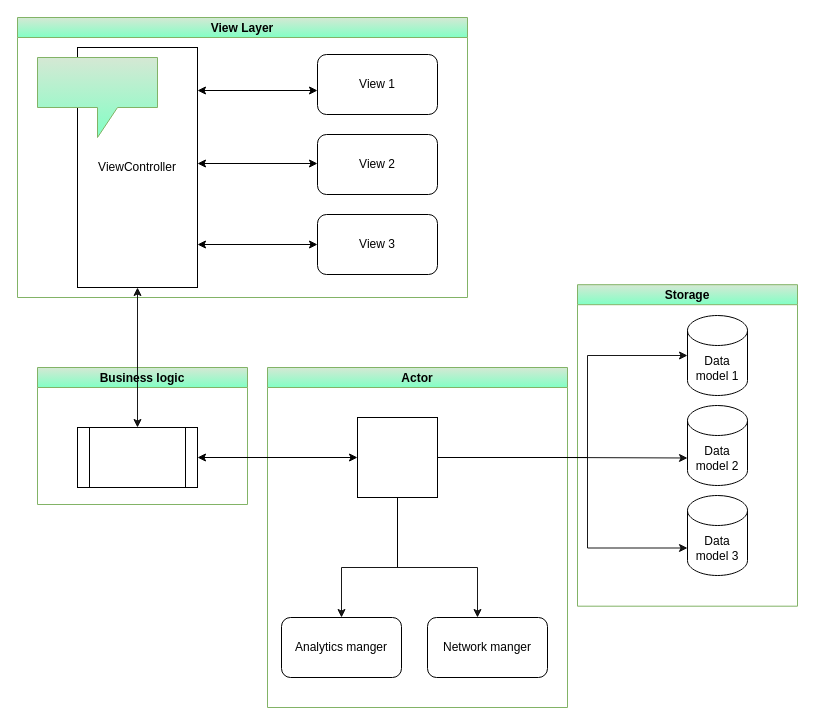
Some shapes in this 815 by 725 pixel diagram are drawn without their labels. The shapes that lost their labels are listed below. From the top down, each one's centre as x and y in pixels, then its label:
At [97,97]: "Initialise with Launcherdelegate".
At [137,457]: "Presenter".
At [397,457]: "Interactor".
